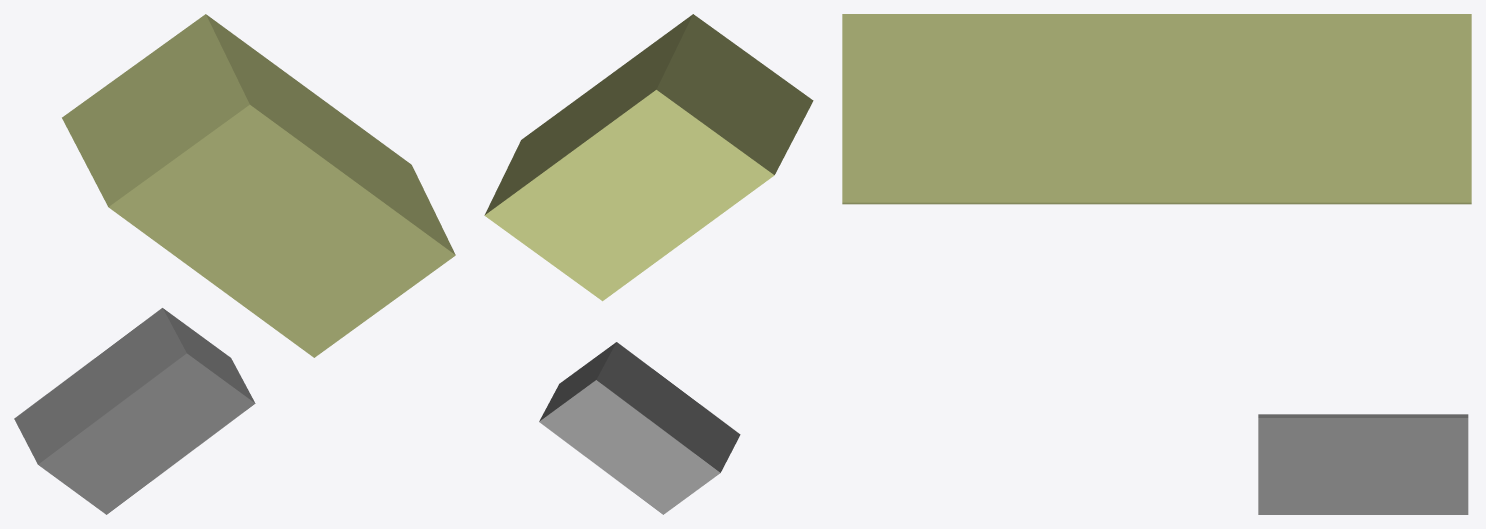
3 renders of one model, left to right at view 1: azimuth 30°, elevation 25°; view 2: azimuth 150°, elevation 25°; view 3: azimuth 270°, elevation 25°, orthographic. The views are drawn at different scales.
Visible parts, largest first — view 1: 0_1_1_3_2_2_3_1_0_3_2; view 2: 0_1_1_3_2_2_3_1_0_3_2; view 3: 0_1_1_3_2_2_3_1_0_3_2.
Boxes of the visible parts, x1,y1,x2,y2 form: 0_1_1_3_2_2_3_1_0_3_2: (14,14,455,514); 0_1_1_3_2_2_3_1_0_3_2: (484,14,813,514); 0_1_1_3_2_2_3_1_0_3_2: (842,14,1471,514).
Size of the model in its own units: 5.98 by 9.85 by 9.
